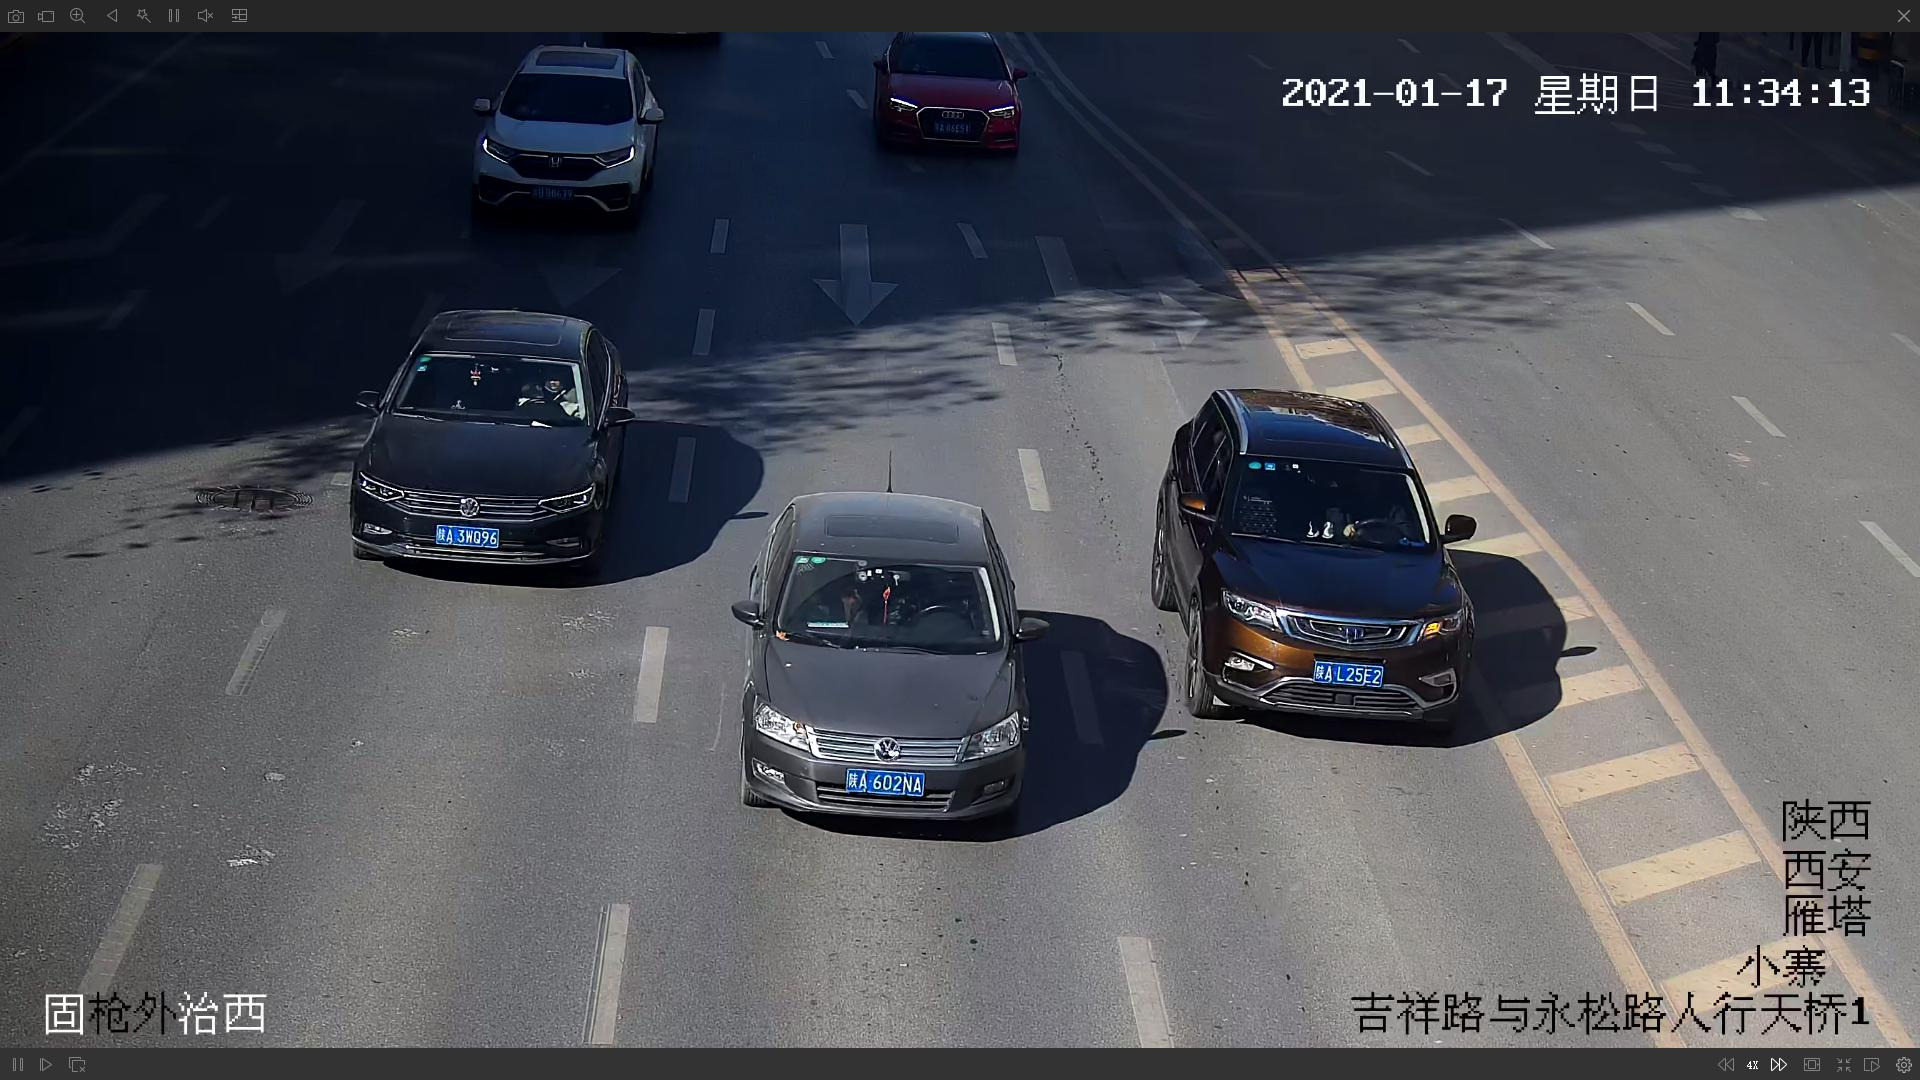black: (352, 310, 625, 582)
dark-brown: (1159, 392, 1482, 736)
dark-red: (872, 30, 1036, 149)
gray: (732, 487, 1036, 822)
white: (468, 40, 657, 218)
